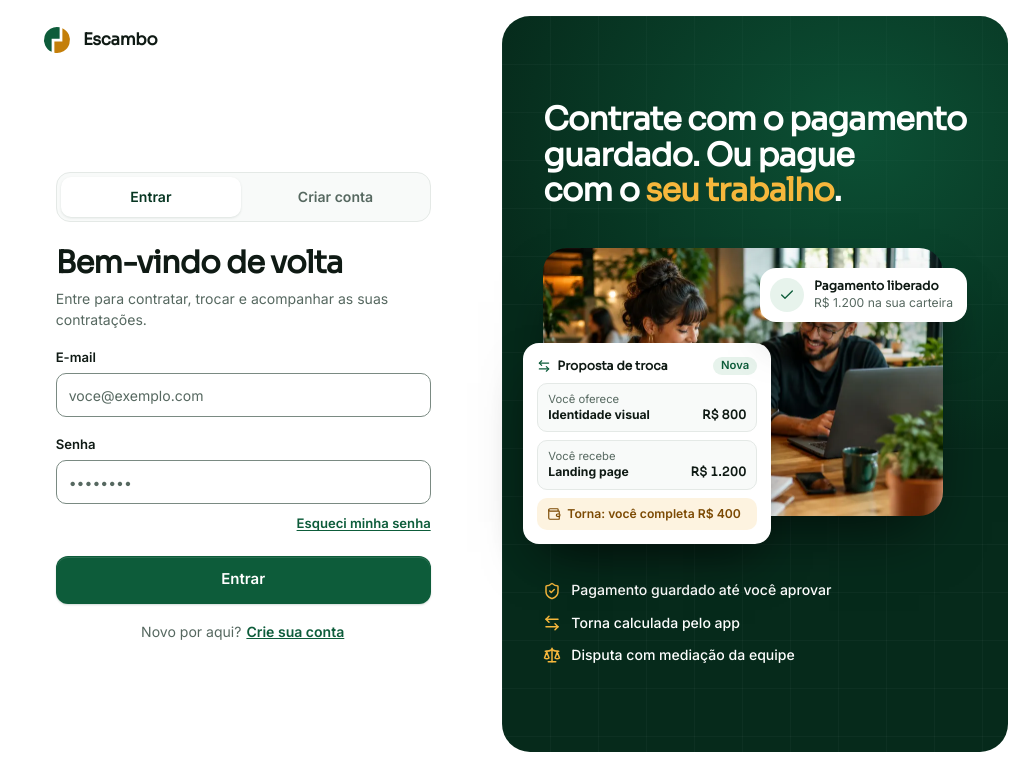
LoginForm: /cadastro › trocar de modo troca o endereço (sem empilhar), guarda o destino e o que foi digitado
Type "ana@escambo.test" into the field labelled "E-mail" at {"x": 243, "y": 395}, box [56,373,431,417]
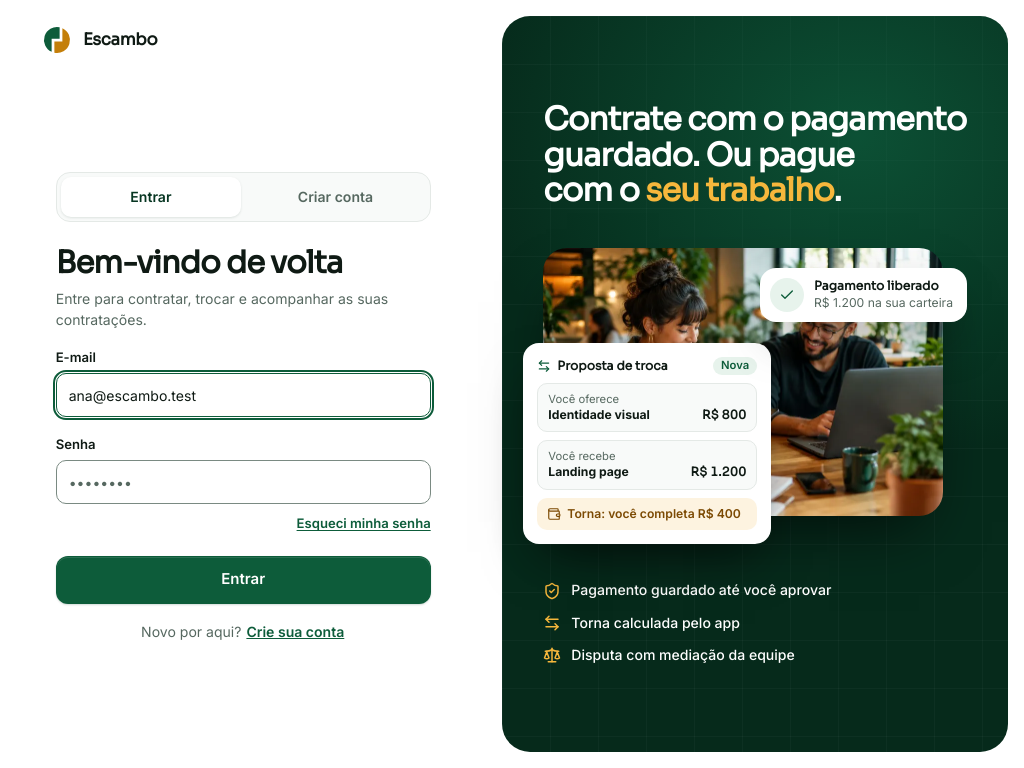
Click the button "Criar conta" at {"x": 335, "y": 197}, box [245,177,426,217]
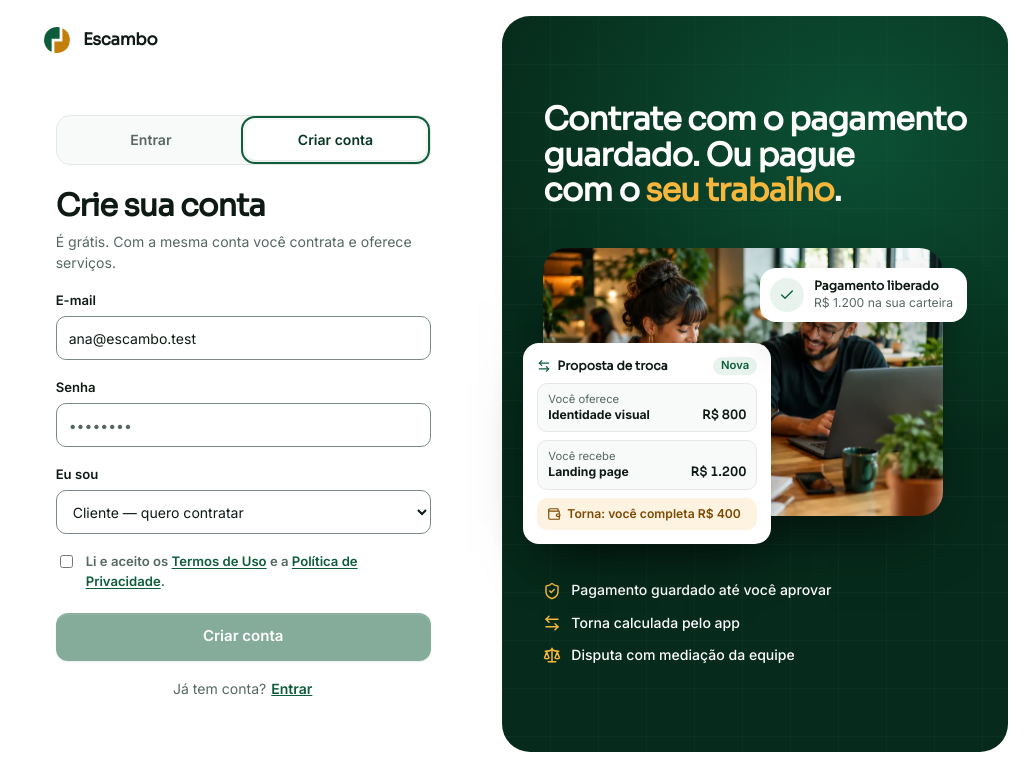
Click the 1st button "Entrar" at {"x": 151, "y": 140}, box [61,120,241,160]
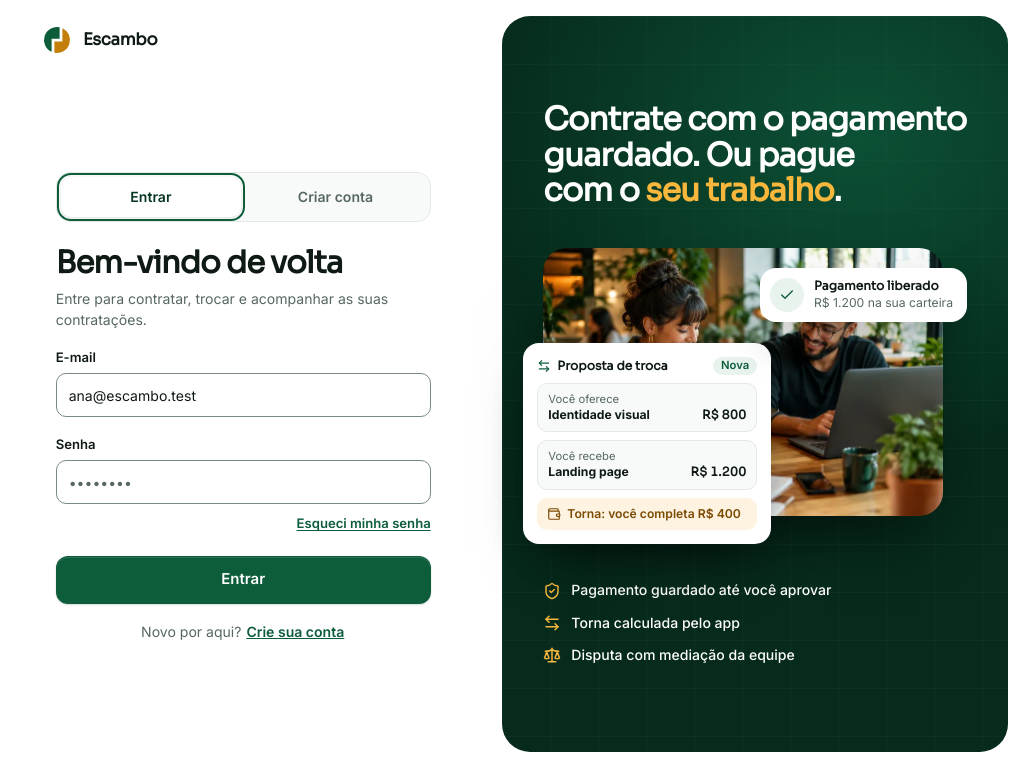
expect the heading "Bem-vindo de volta" is shown: met, box [56,243,342,282]
